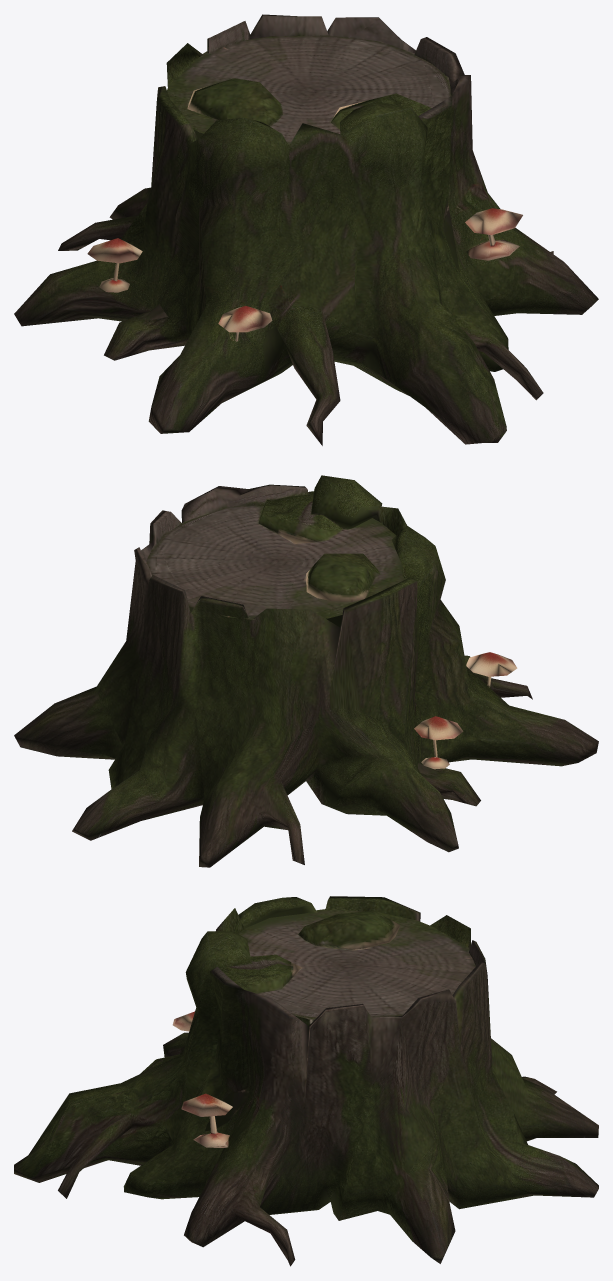
The model's file is nature-green-mossy-stump.glb.
3 views of the same model, one above another, from view 1: azimuth 30°, elevation 25°; view 2: azimuth 150°, elevation 25°; view 3: azimuth 270°, elevation 25° (orthographic). The views are drawn at different scales.
Size of the model in its own units: 0.8621 by 0.4656 by 1.
Materials: 1 (1 with a texture image).
